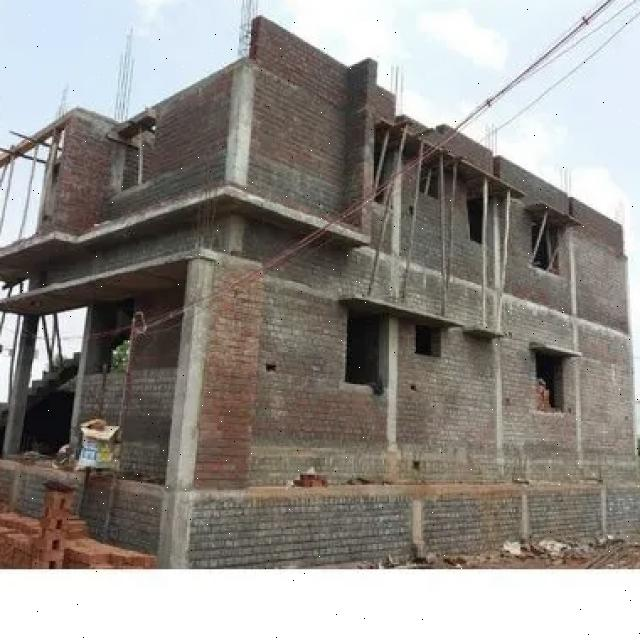Exterior Finishing: (27, 152, 638, 576)
